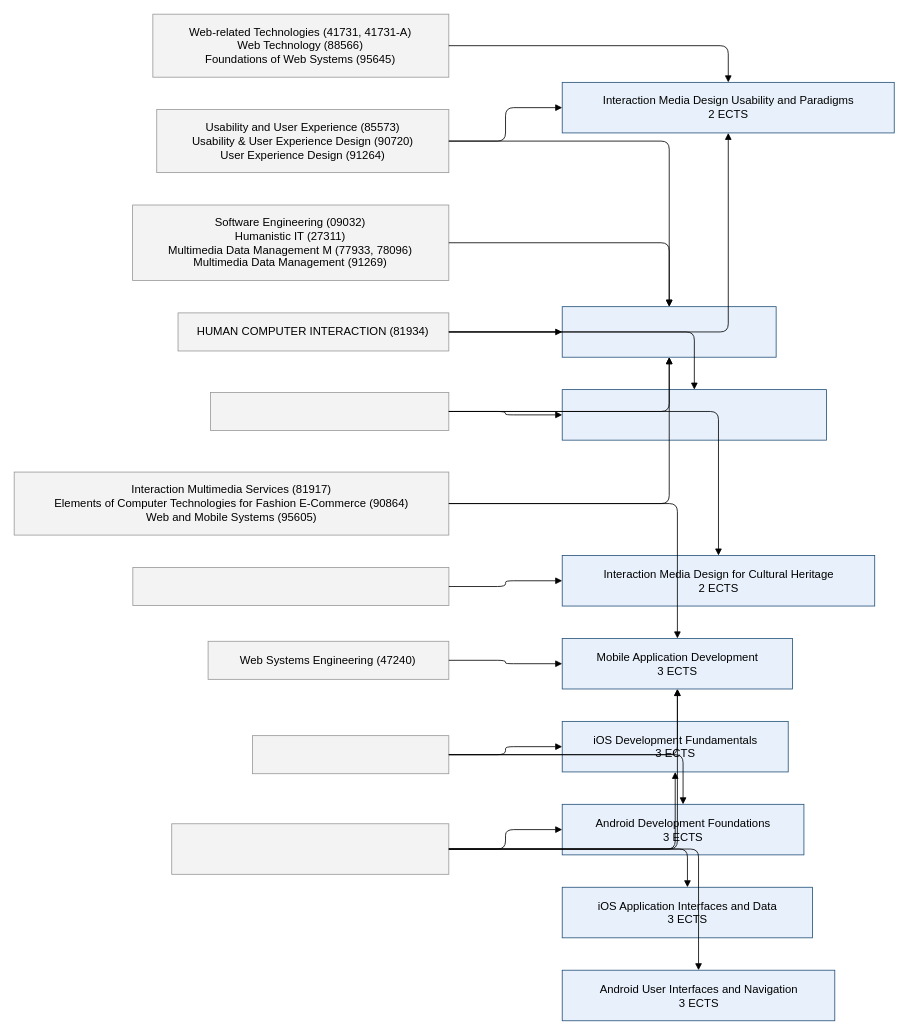
Some shapes in this 909 by 1035 pixel diagram are drawn without their labels. Each missing label, with the centre of its shape:
"Computer Science for Cultural Heritage (48693)" goes at (x=290, y=586).
"Human-Computer Interaction 3 ECTS" goes at (x=668, y=331).
"Interaction Media Design (B5059)" goes at (x=329, y=411).
"Interaction Media Design Foundations 2 ECTS" goes at (x=693, y=414).
"Mobile Applications Laboratory (66860) Mobile Application Programming (72787)" goes at (x=310, y=848).
"Mobile Systems M (78779)" goes at (x=350, y=754).
